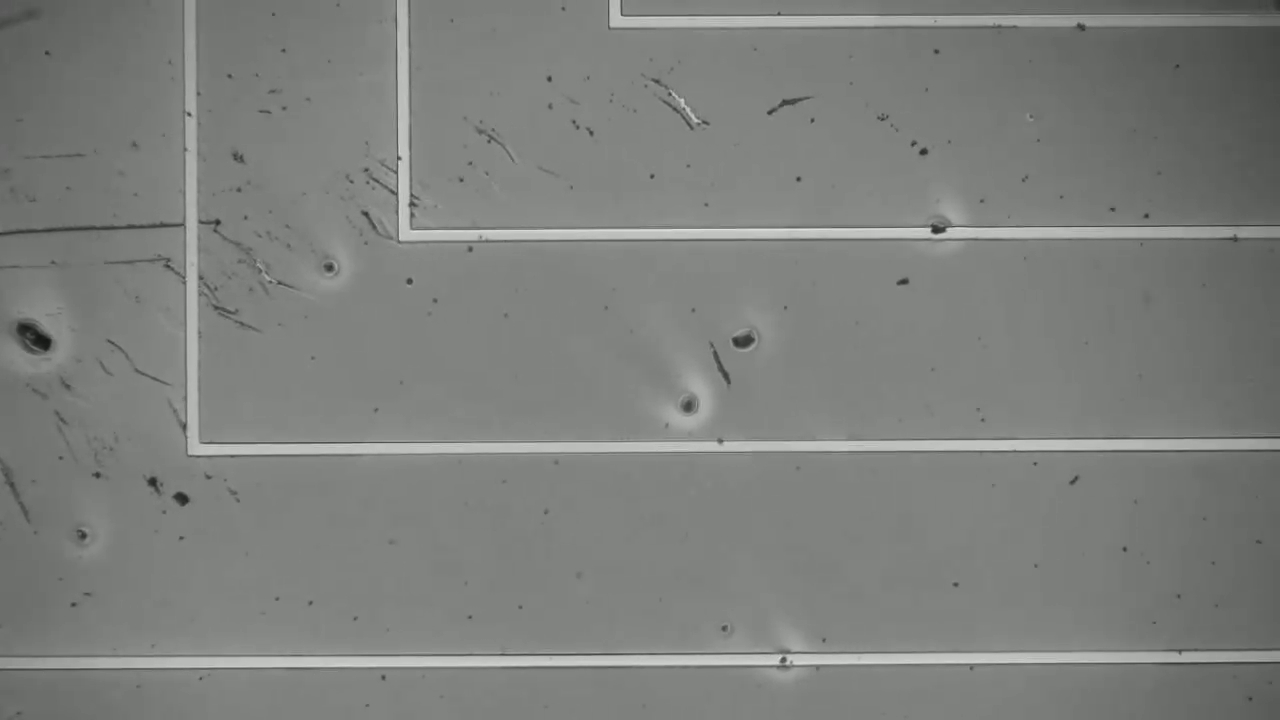scratch: (1, 205, 221, 255), (183, 269, 272, 332), (108, 330, 173, 391), (1, 463, 34, 537), (356, 169, 422, 202)
stains_enbedded: (922, 204, 959, 253), (767, 639, 800, 673)
